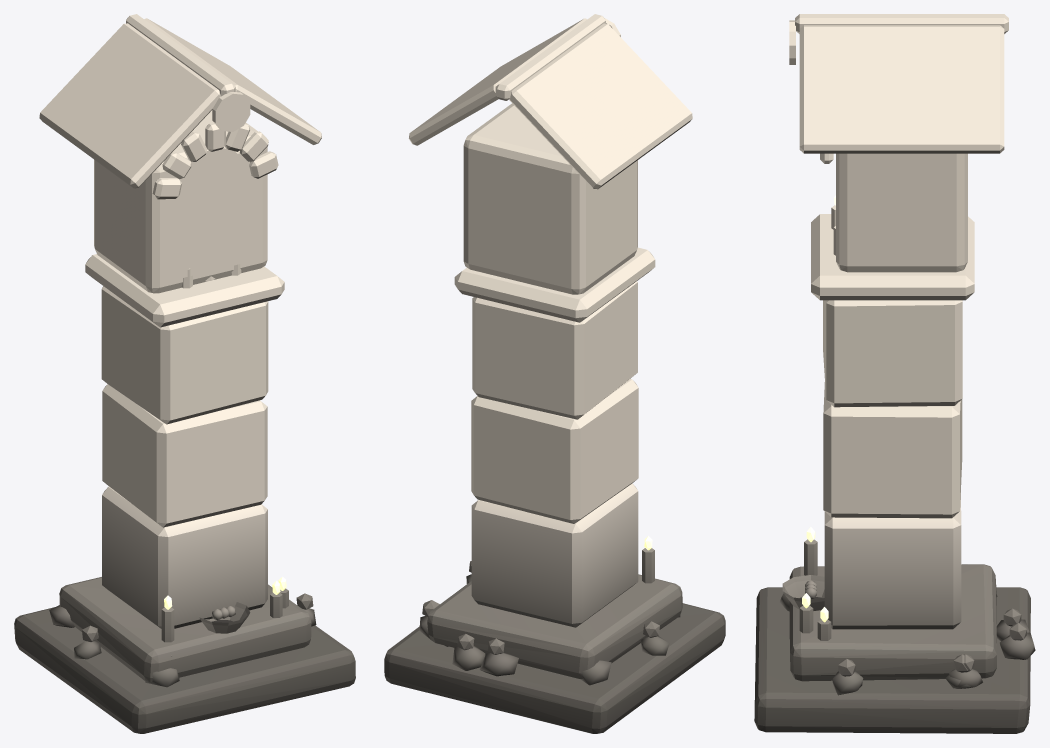
File: SM_VK_Prop_WaysideShrine.fbx
The picture shows the model from 3 angles, left to right: view 1: azimuth 30°, elevation 25°; view 2: azimuth 150°, elevation 25°; view 3: azimuth 270°, elevation 25°; orthographic projection. The views are drawn at different scales.
Parts seen in each view (by area): view 1: SM_VK_Prop_WaysideShrine.001; view 2: SM_VK_Prop_WaysideShrine.001; view 3: SM_VK_Prop_WaysideShrine.001.
Part boxes in pixels (x1=…): SM_VK_Prop_WaysideShrine.001: x1=14, y1=14, x2=355, y2=733; SM_VK_Prop_WaysideShrine.001: x1=384, y1=14, x2=725, y2=733; SM_VK_Prop_WaysideShrine.001: x1=754, y1=14, x2=1035, y2=733.
Bounding box in the file's own units: 1.21 × 3.22 × 1.23.
